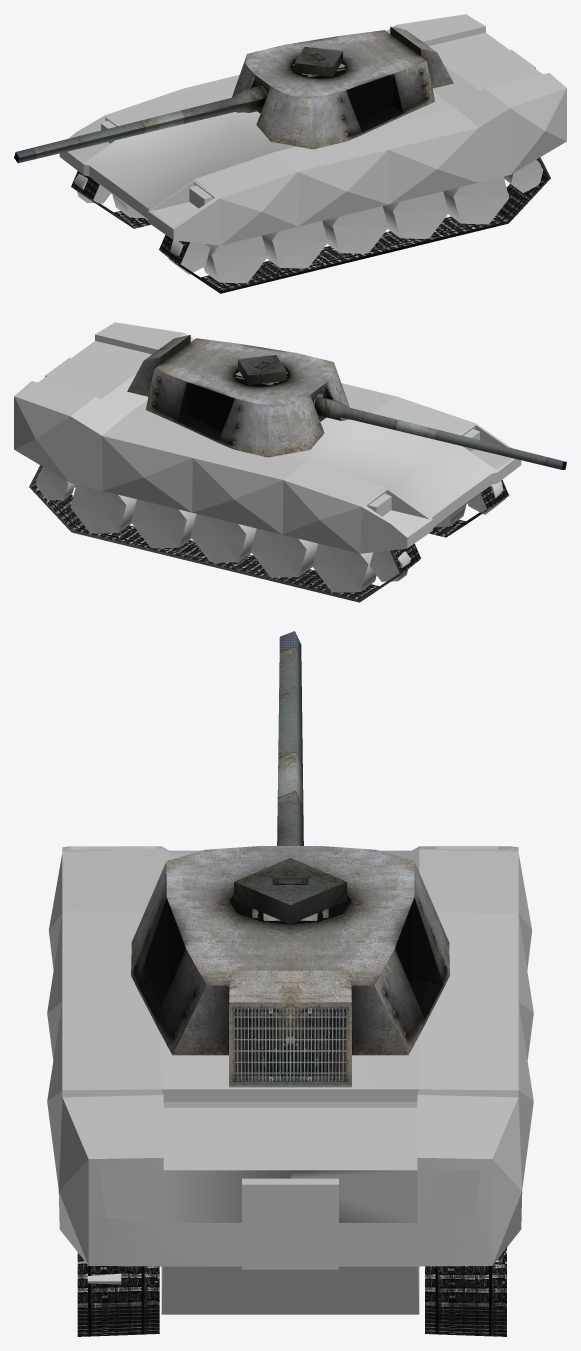
Rendered from Tank3_lod2.FBX.
3 views of the same model, one above another, from view 1: azimuth 30°, elevation 25°; view 2: azimuth 150°, elevation 25°; view 3: azimuth 270°, elevation 25° (orthographic). The views are drawn at different scales.
Visible parts, largest first — view 1: tank13, tank3_gun05, Object38, tank3_gun04, wheel187, wheel194, wheel200, wheel199, wheel193, wheel192, wheel189, wheel188; view 2: tank13, tank3_gun05, Object38, tank3_gun04, wheel197, wheel190, wheel196, wheel195, wheel198, wheel188, wheel191, wheel192; view 3: tank13, tank3_gun05, Object38, tank3_gun04.
Boxes of the visible parts, x1,y1,x2,y2 form: tank13: [59, 14, 566, 245]; tank3_gun05: [232, 26, 453, 149]; Object38: [71, 157, 550, 293]; tank3_gun04: [14, 86, 266, 163]; wheel187: [443, 176, 509, 224]; wheel194: [322, 206, 388, 253]; wheel200: [382, 191, 448, 239]; wheel199: [262, 221, 327, 268]; wheel193: [203, 235, 267, 283]; wheel192: [168, 240, 209, 274]; wheel189: [504, 159, 543, 192]; wheel188: [74, 173, 110, 203]; tank13: [14, 322, 521, 553]; tank3_gun05: [127, 335, 349, 457]; Object38: [29, 464, 509, 602]; tank3_gun04: [314, 397, 566, 469]; wheel197: [250, 528, 318, 577]; wheel190: [70, 484, 136, 533]; wheel196: [190, 514, 256, 562]; wheel195: [131, 499, 196, 548]; wheel198: [312, 543, 376, 592]; wheel188: [369, 550, 410, 581]; wheel191: [35, 467, 74, 500]; wheel192: [468, 481, 505, 514]; tank13: [47, 846, 533, 1314]; tank3_gun05: [131, 846, 449, 1087]; Object38: [77, 1246, 506, 1336]; tank3_gun04: [277, 631, 303, 845].
Size of the model in its own units: 8.77 by 2.66 by 3.65.
